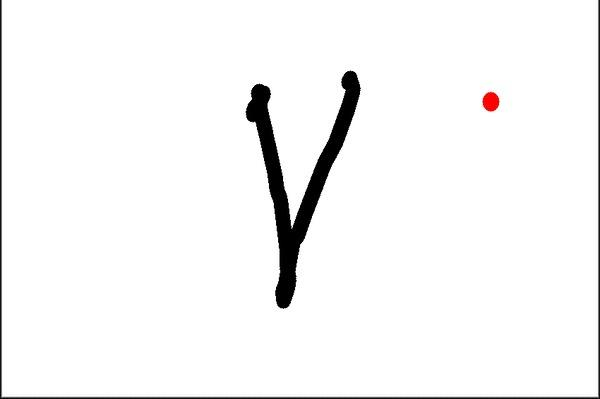V: (232, 61, 366, 318)
